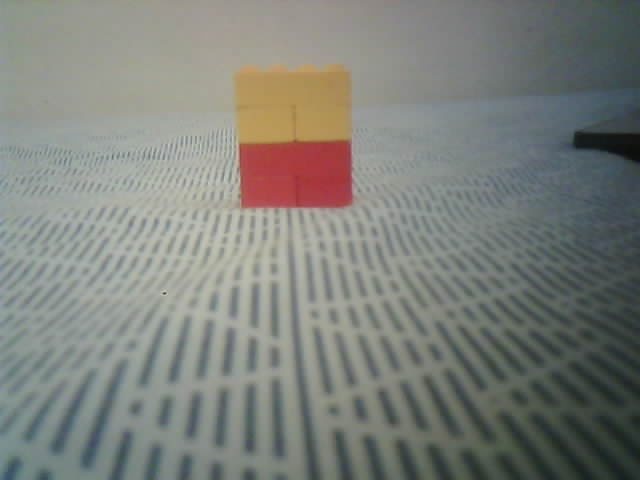lego: (230, 62, 355, 210)
